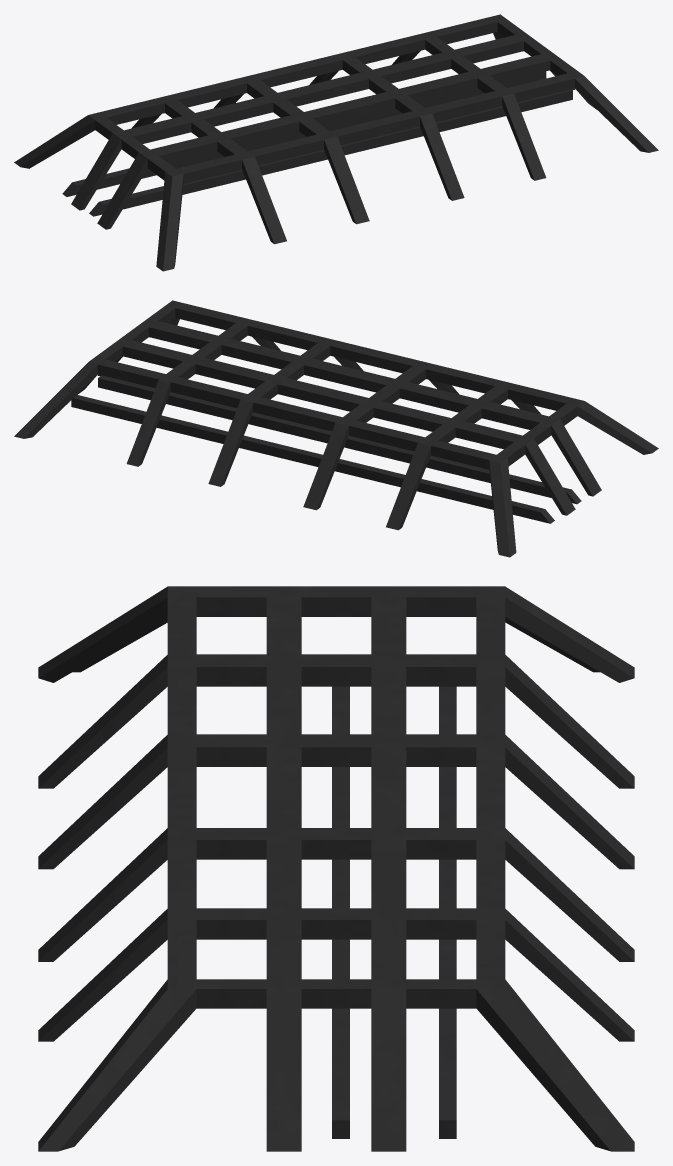
Rendered from Tubos.obj.
3 views of the same model, one above another, from view 1: azimuth 30°, elevation 25°; view 2: azimuth 150°, elevation 25°; view 3: azimuth 270°, elevation 25° (orthographic). The views are drawn at different scales.
Parts seen in each view (by area): view 1: Tubos:cristal__vents_Plano_006; view 2: Tubos:cristal__vents_Plano_006; view 3: Tubos:cristal__vents_Plano_006.
Part boxes in pixels (bbox=[...]): Tubos:cristal__vents_Plano_006: bbox=[14, 14, 658, 271]; Tubos:cristal__vents_Plano_006: bbox=[14, 300, 658, 557]; Tubos:cristal__vents_Plano_006: bbox=[38, 586, 634, 1151].
Bounding box in the file's own units: 17.26 × 2.03 × 8.98.
Materials: 1 (1 with a texture image).
